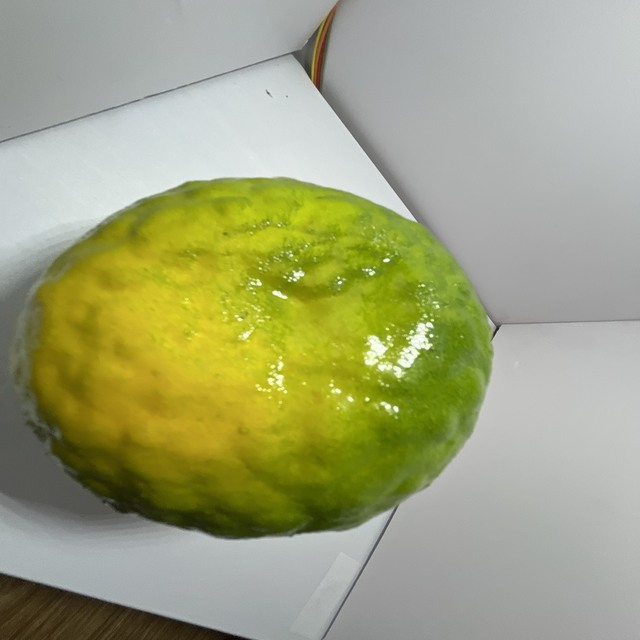Cam xanh: (0, 164, 505, 551)
